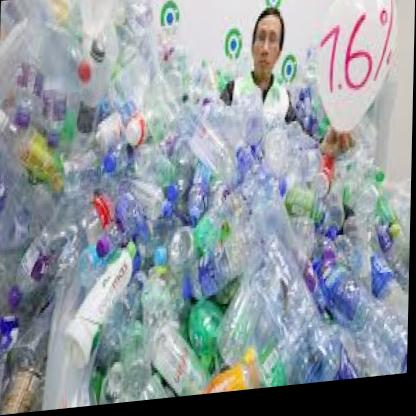Plastic: (0, 98, 408, 411)
